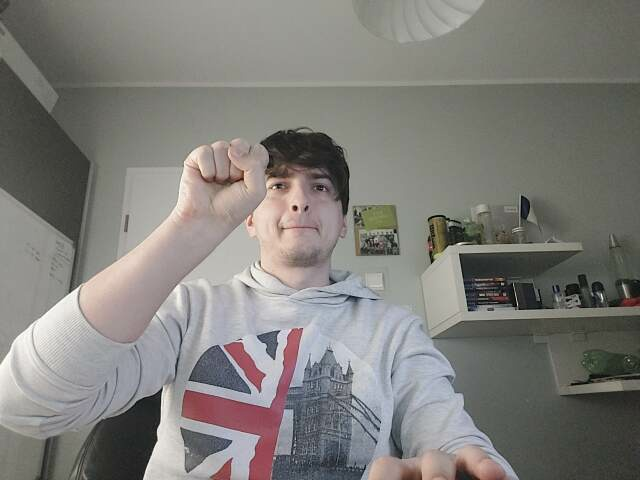yes: (184, 138, 270, 219)
